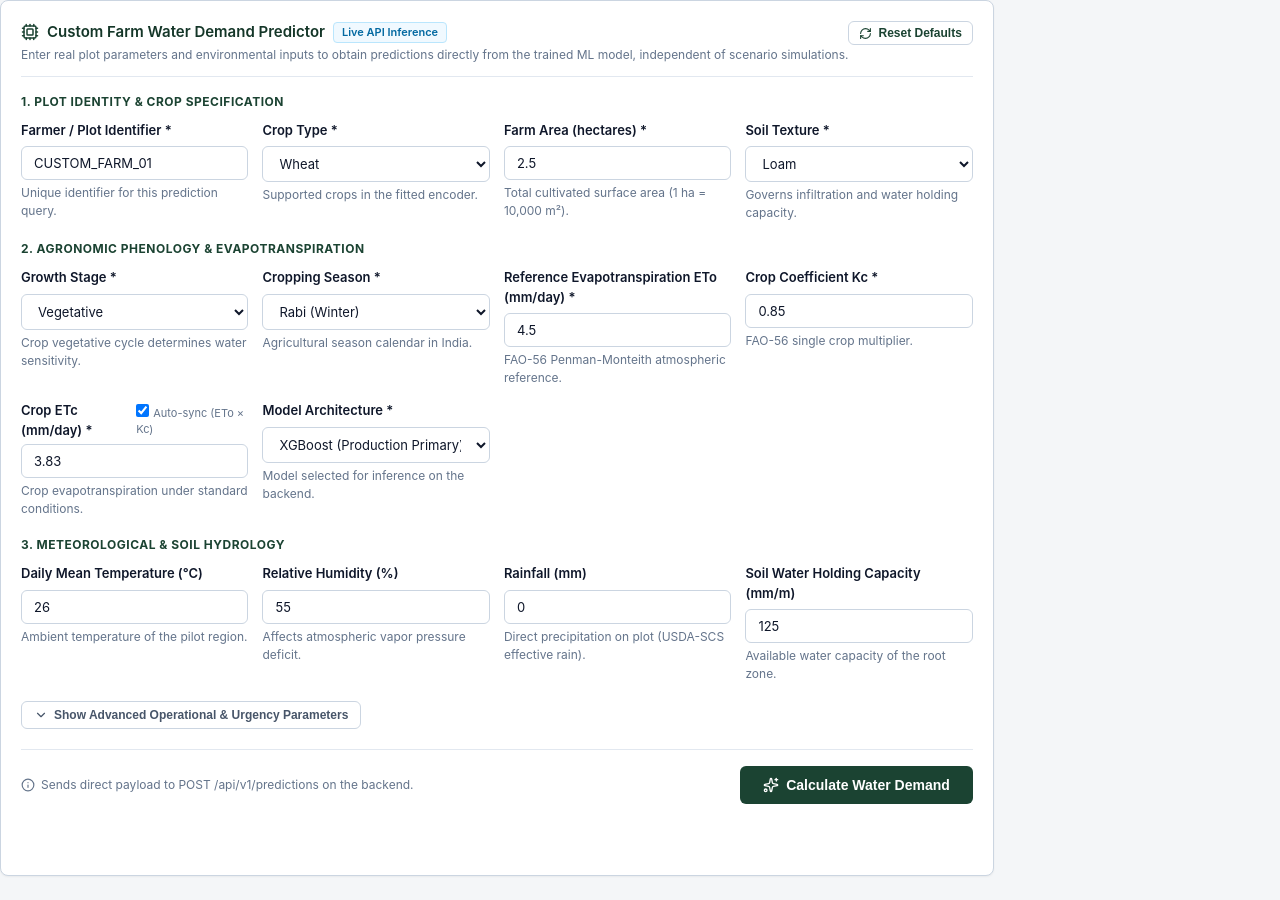
Test: CustomFarmPredictor Component & Phase 14 UI Flow › 2. validates that farm area must be greater than zero and blocks submission
Step 1. Replace the text in the number field labelled "Farm Area (hectares) *" with "0" → (618,163), box [504,146,731,180]
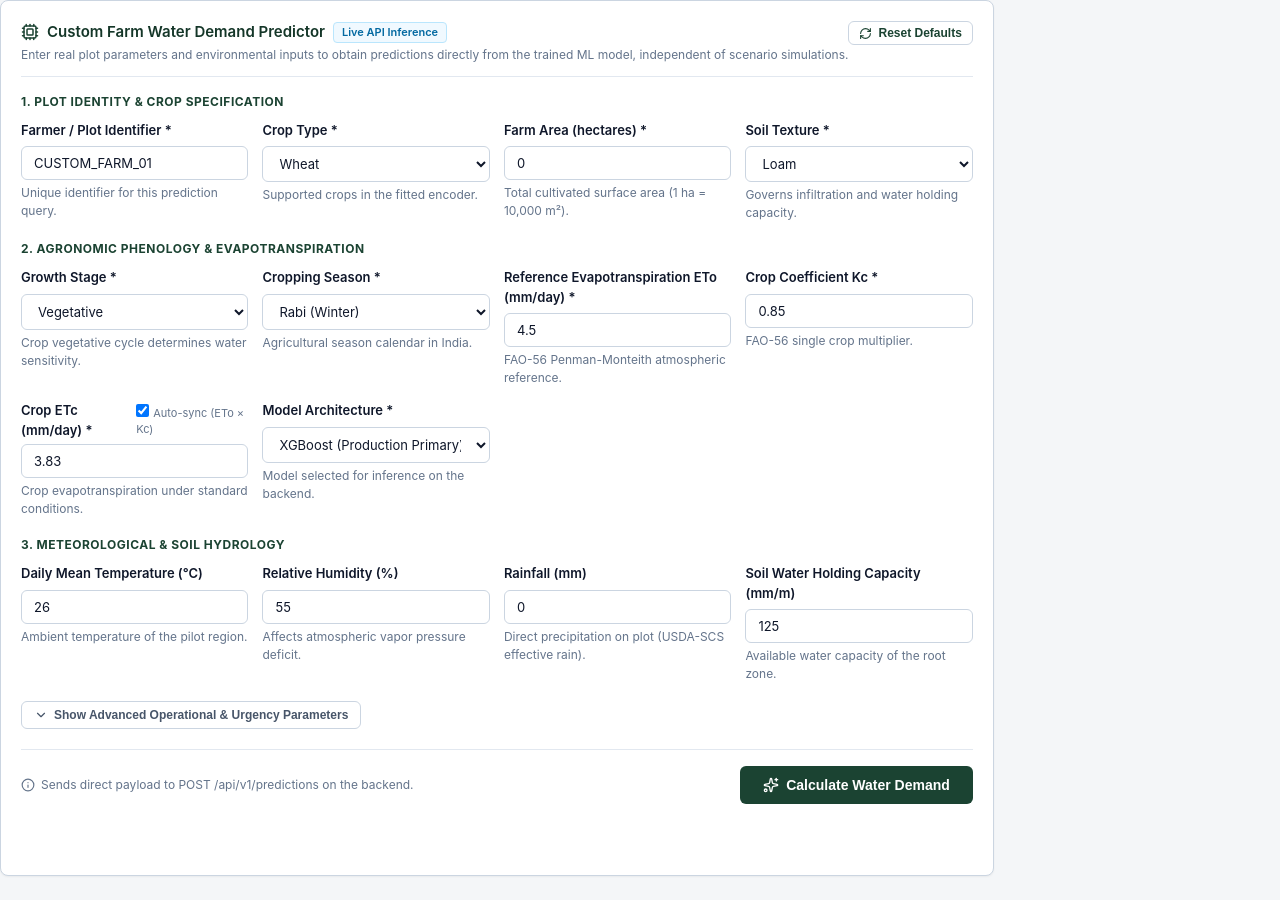
Step 2. Click the button "Calculate Water Demand" → (856,785), box [740,766,973,804]
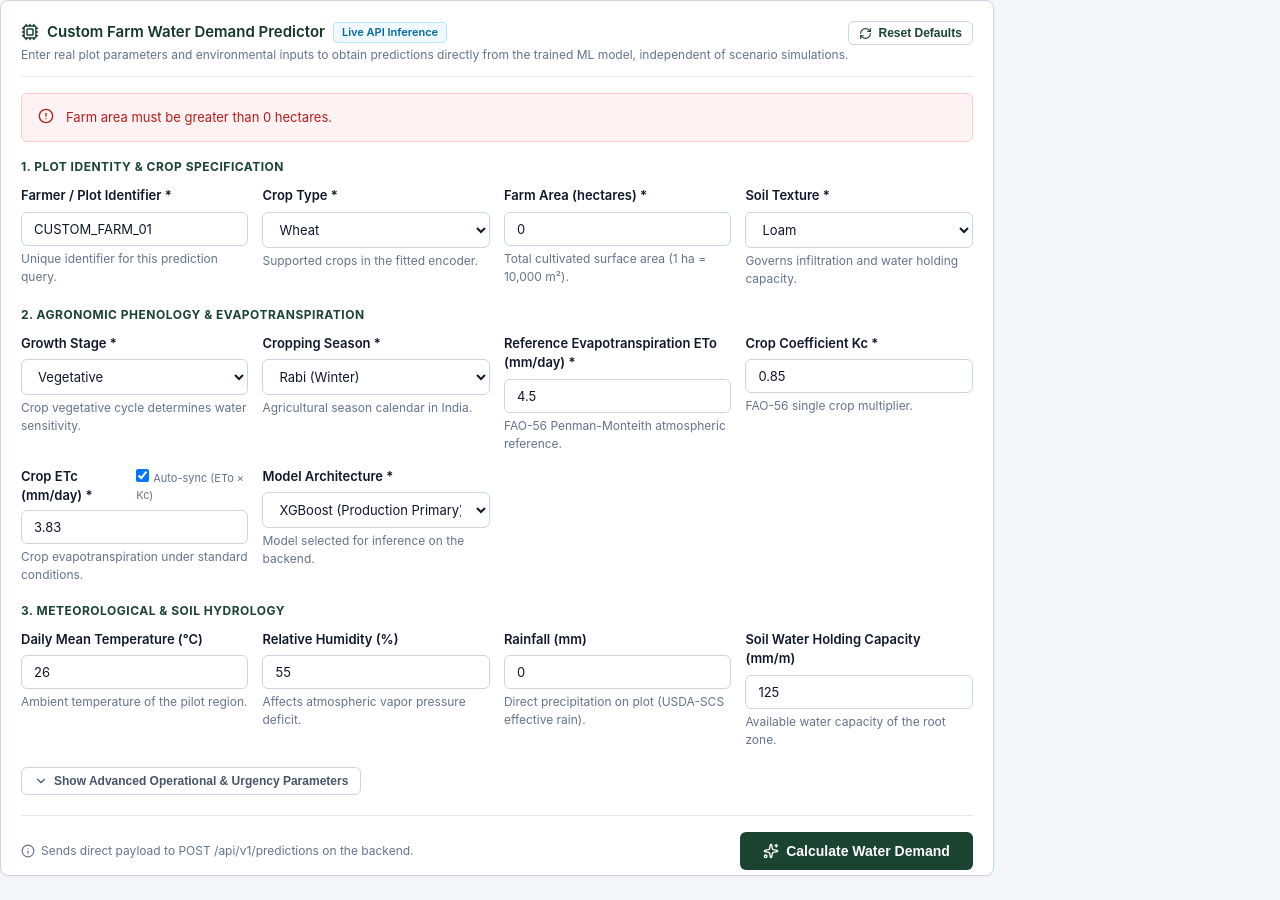
Check: the text "Farm area must be greater than 0 hectares." is shown, box [66,108,332,127]
